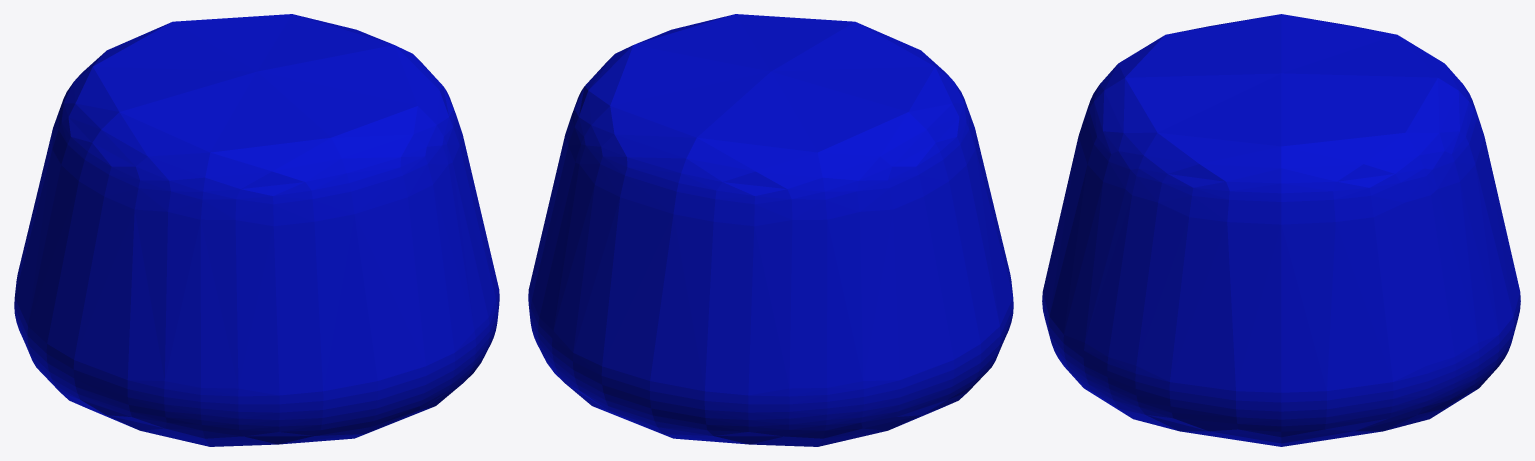
The model's file is COL_hollie_real.005.dae.
3 renders of one model, left to right at view 1: azimuth 30°, elevation 25°; view 2: azimuth 150°, elevation 25°; view 3: azimuth 270°, elevation 25°, orthographic.
Visible parts, largest first — view 1: COL_COL_COL_VIS_VIS_VIS_VIS_VIS_VIS_VIS_VIS_VIS_hollie_real_; view 2: COL_COL_COL_VIS_VIS_VIS_VIS_VIS_VIS_VIS_VIS_VIS_hollie_real_; view 3: COL_COL_COL_VIS_VIS_VIS_VIS_VIS_VIS_VIS_VIS_VIS_hollie_real_.
Part boxes in pixels (box(x1,y1,x2,y2)): COL_COL_COL_VIS_VIS_VIS_VIS_VIS_VIS_VIS_VIS_VIS_hollie_real_: box(14, 14, 499, 446); COL_COL_COL_VIS_VIS_VIS_VIS_VIS_VIS_VIS_VIS_VIS_hollie_real_: box(528, 14, 1013, 446); COL_COL_COL_VIS_VIS_VIS_VIS_VIS_VIS_VIS_VIS_VIS_hollie_real_: box(1042, 14, 1520, 446).
Size of the model in its own units: 0.1226 by 0.1223 by 0.084.
